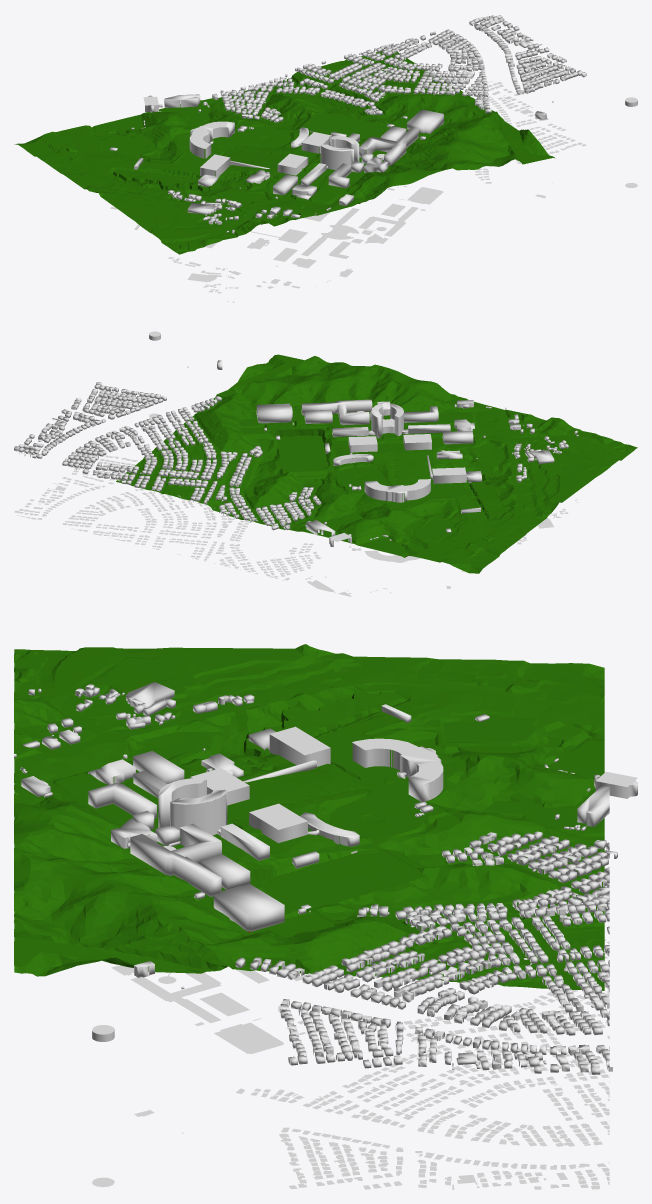
Rendered from gakkou_zahyou03-軽量化.glb.
3 views of the same model, one above another, from view 1: azimuth 30°, elevation 25°; view 2: azimuth 150°, elevation 25°; view 3: azimuth 270°, elevation 25° (orthographic). The views are drawn at different scales.
Visible parts, largest first — view 1: dem, CityGML.001, CityGML; view 2: dem, CityGML.001, CityGML; view 3: dem, CityGML.001, CityGML.
Boxes of the visible parts, x1=… form: dem: x1=14, y1=49, x2=554, y2=254; CityGML.001: x1=110, y1=15, x2=586, y2=266; CityGML: x1=187, y1=97, x2=637, y2=302; dem: x1=116, y1=354, x2=637, y2=573; CityGML.001: x1=14, y1=366, x2=526, y2=596; CityGML: x1=149, y1=331, x2=578, y2=528; dem: x1=14, y1=644, x2=604, y2=990; CityGML.001: x1=130, y1=694, x2=637, y2=1189; CityGML: x1=14, y1=682, x2=206, y2=1187.
Size of the model in its own units: 127 by 22.16 by 79.02.
